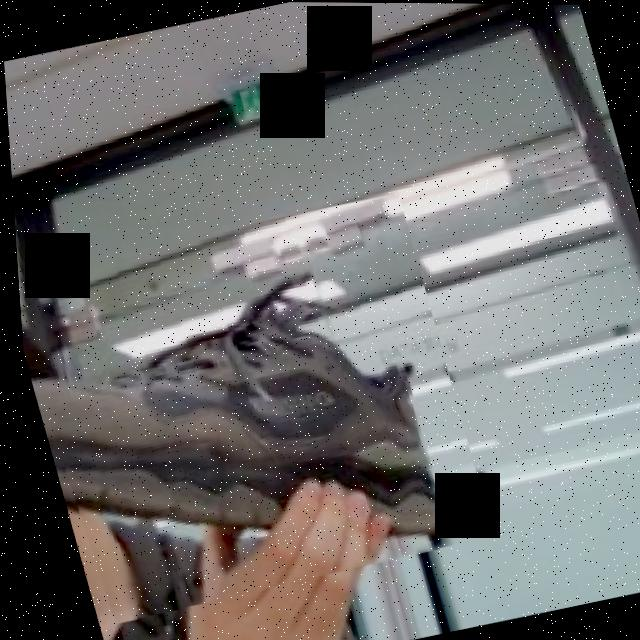shoe: (10, 189, 492, 629)
